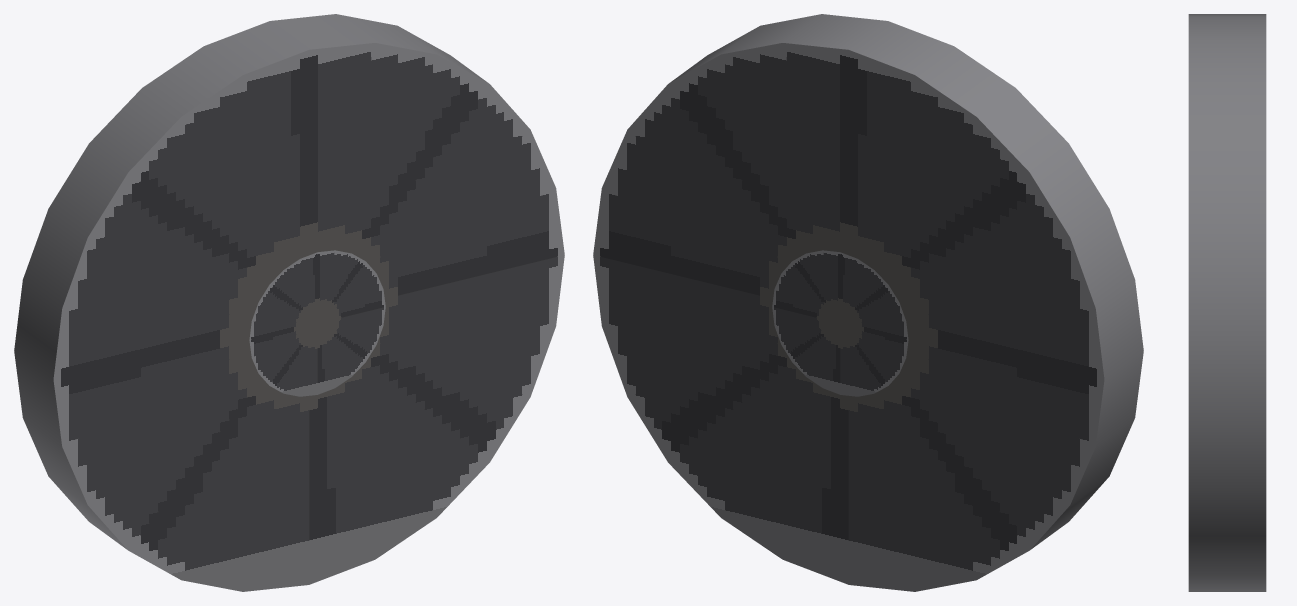
File: kolo_m62.glb
The picture shows the model from 3 angles, left to right: view 1: azimuth 30°, elevation 25°; view 2: azimuth 150°, elevation 25°; view 3: azimuth 270°, elevation 25°; orthographic projection.
Bounding box in the file's own units: 1.05 × 1.05 × 0.2.
1 material, 1 textured.
